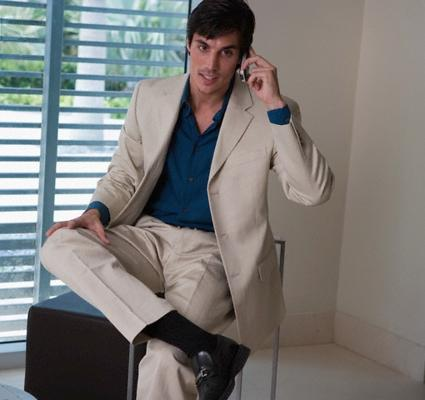person: (39, 1, 337, 400)
